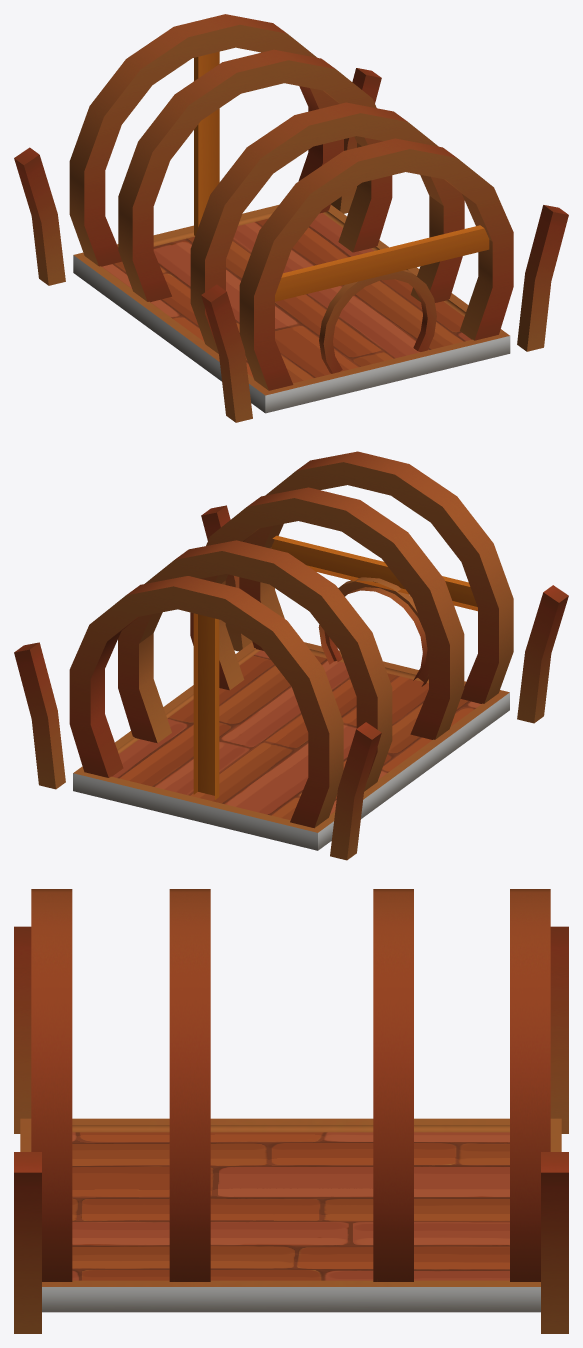
Rendered from VikingHouse_05_L.fbx.
The picture shows the model from 3 angles, top to bottom: view 1: azimuth 30°, elevation 25°; view 2: azimuth 150°, elevation 25°; view 3: azimuth 270°, elevation 25°; orthographic projection. The views are drawn at different scales.
Parts seen in each view (by area): view 1: VikingHouse_05_L; view 2: VikingHouse_05_L; view 3: VikingHouse_05_L.
Part boxes in pixels (box(x1,y1,x2,y2)): VikingHouse_05_L: box(14, 14, 568, 422); VikingHouse_05_L: box(14, 451, 568, 860); VikingHouse_05_L: box(14, 889, 568, 1333).
Size of the model in its own units: 523 by 315 by 498.
